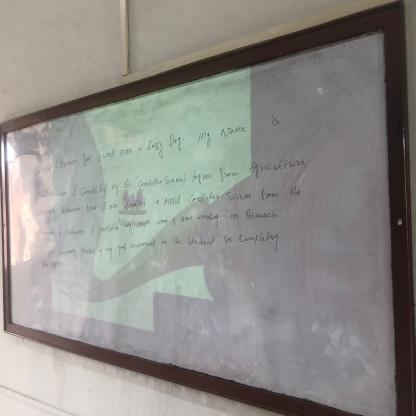Handwritten text: (27, 105, 292, 180), (31, 149, 316, 202), (32, 176, 309, 220), (30, 203, 282, 241), (35, 227, 286, 261)
Whiteboard: (0, 29, 403, 416)
